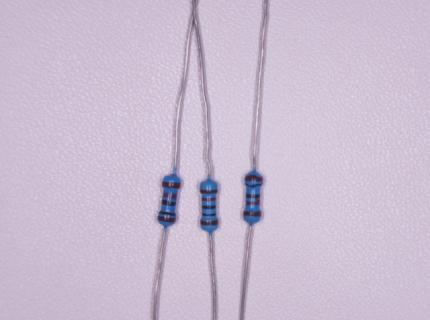Black band: (159, 210, 176, 216), (162, 200, 176, 206), (246, 194, 260, 199), (202, 205, 217, 209), (202, 213, 216, 217), (247, 184, 261, 187)
Brown band: (161, 181, 180, 189), (245, 175, 263, 182), (201, 219, 219, 226), (157, 216, 175, 223), (243, 211, 261, 217), (200, 189, 217, 194)
Red band: (163, 192, 177, 199), (246, 200, 261, 206), (201, 197, 216, 202)
